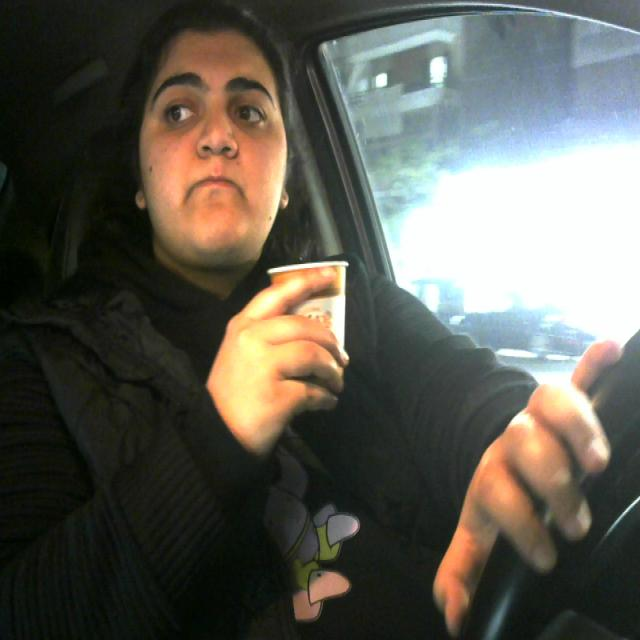drinking: (260, 254, 363, 404)
